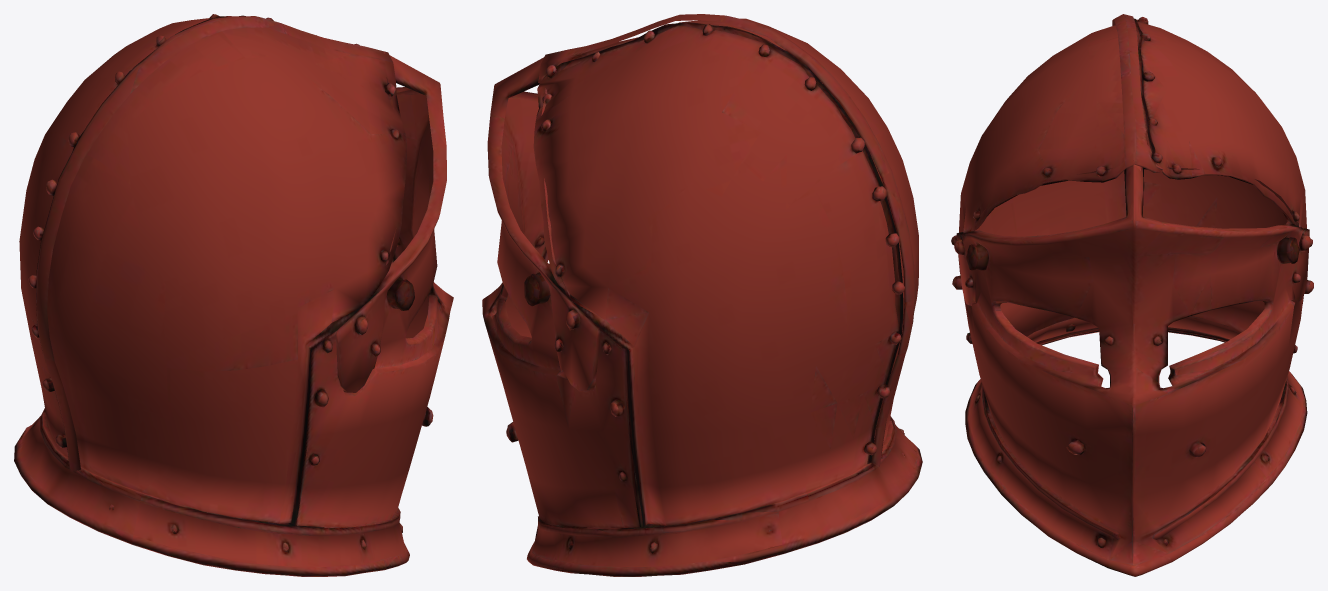
File: dragon_full_helm.glb
3 renders of one model, left to right at view 1: azimuth 30°, elevation 25°; view 2: azimuth 150°, elevation 25°; view 3: azimuth 270°, elevation 25°, orthographic. The views are drawn at different scales.
Visible parts, largest first — view 1: tripo_node_af3596da-f39c-445c-85cb-942779934b46; view 2: tripo_node_af3596da-f39c-445c-85cb-942779934b46; view 3: tripo_node_af3596da-f39c-445c-85cb-942779934b46.
Part boxes in pixels (x1,y1,x2,y2): tripo_node_af3596da-f39c-445c-85cb-942779934b46: [14, 14, 453, 576]; tripo_node_af3596da-f39c-445c-85cb-942779934b46: [482, 14, 922, 576]; tripo_node_af3596da-f39c-445c-85cb-942779934b46: [951, 14, 1313, 576].
Bounding box in the file's own units: 0.5331 × 0.6863 × 0.4761.
1 material, 1 textured.
